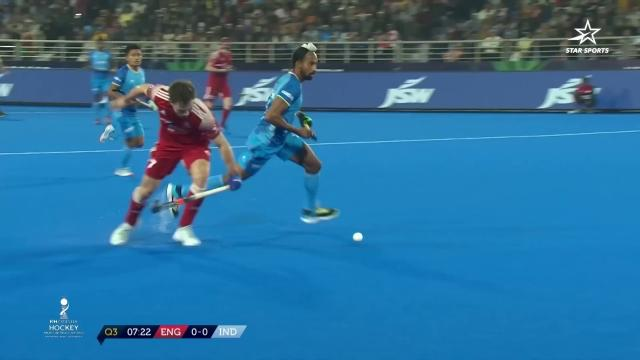ball: (346, 227, 370, 246)
